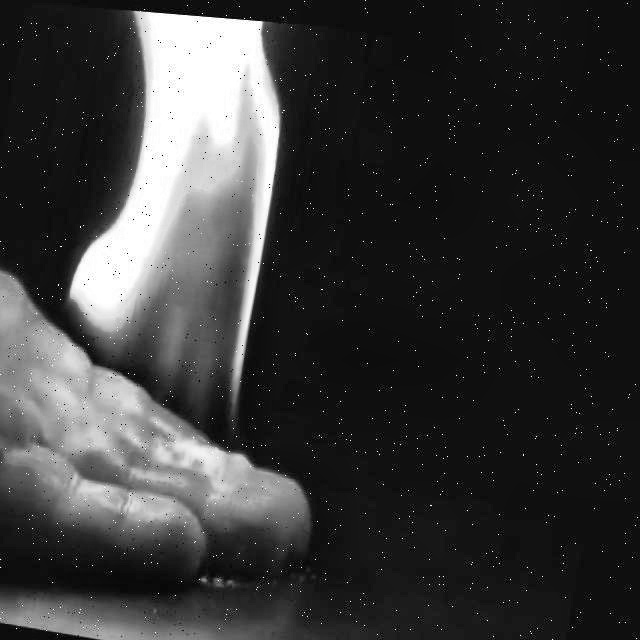Smoke: (44, 5, 321, 466)
